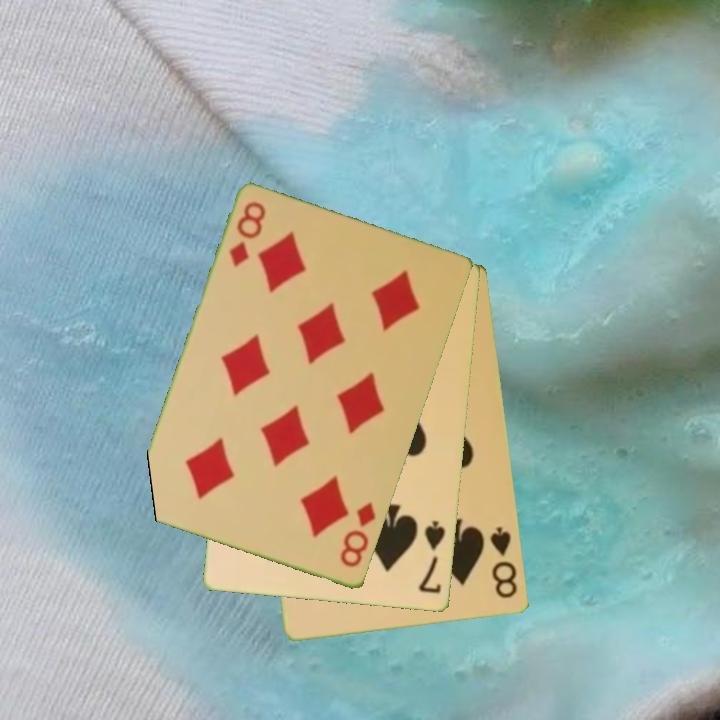7s: (415, 518, 449, 597)
8d: (225, 198, 269, 271), (337, 498, 379, 571)
8s: (487, 524, 521, 602)
